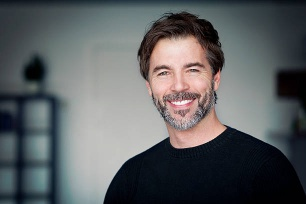male: (141, 34, 222, 133)
